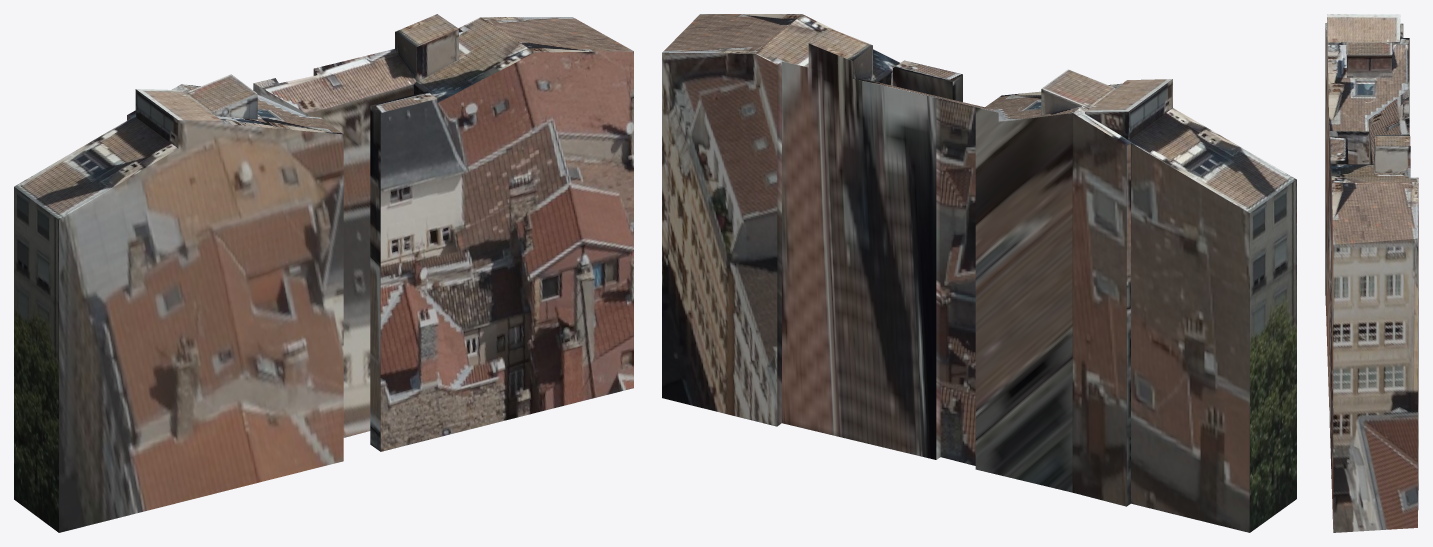
The picture shows the model from 3 angles, left to right: view 1: azimuth 30°, elevation 25°; view 2: azimuth 150°, elevation 25°; view 3: azimuth 270°, elevation 25°; orthographic projection. The views are drawn at different scales.
Visible parts, largest first — view 1: Z_UP; view 2: Z_UP; view 3: Z_UP.
Part boxes in pixels (<box>): Z_UP: <box>14,14,633,532</box>; Z_UP: <box>662,14,1296,532</box>; Z_UP: <box>1325,14,1418,532</box>.
Bounding box in the file's own units: 41.27 × 26.03 × 6.73.
2 materials, 1 textured.
